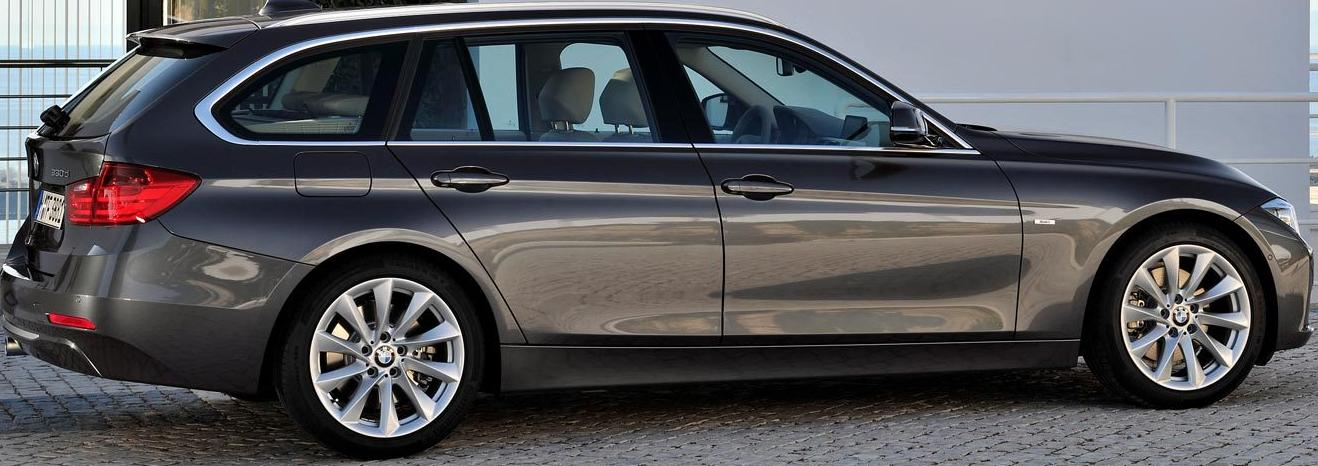back_view: (0, 131, 225, 390)
backlight: (46, 144, 208, 229)
side_glass: (184, 18, 981, 164)
